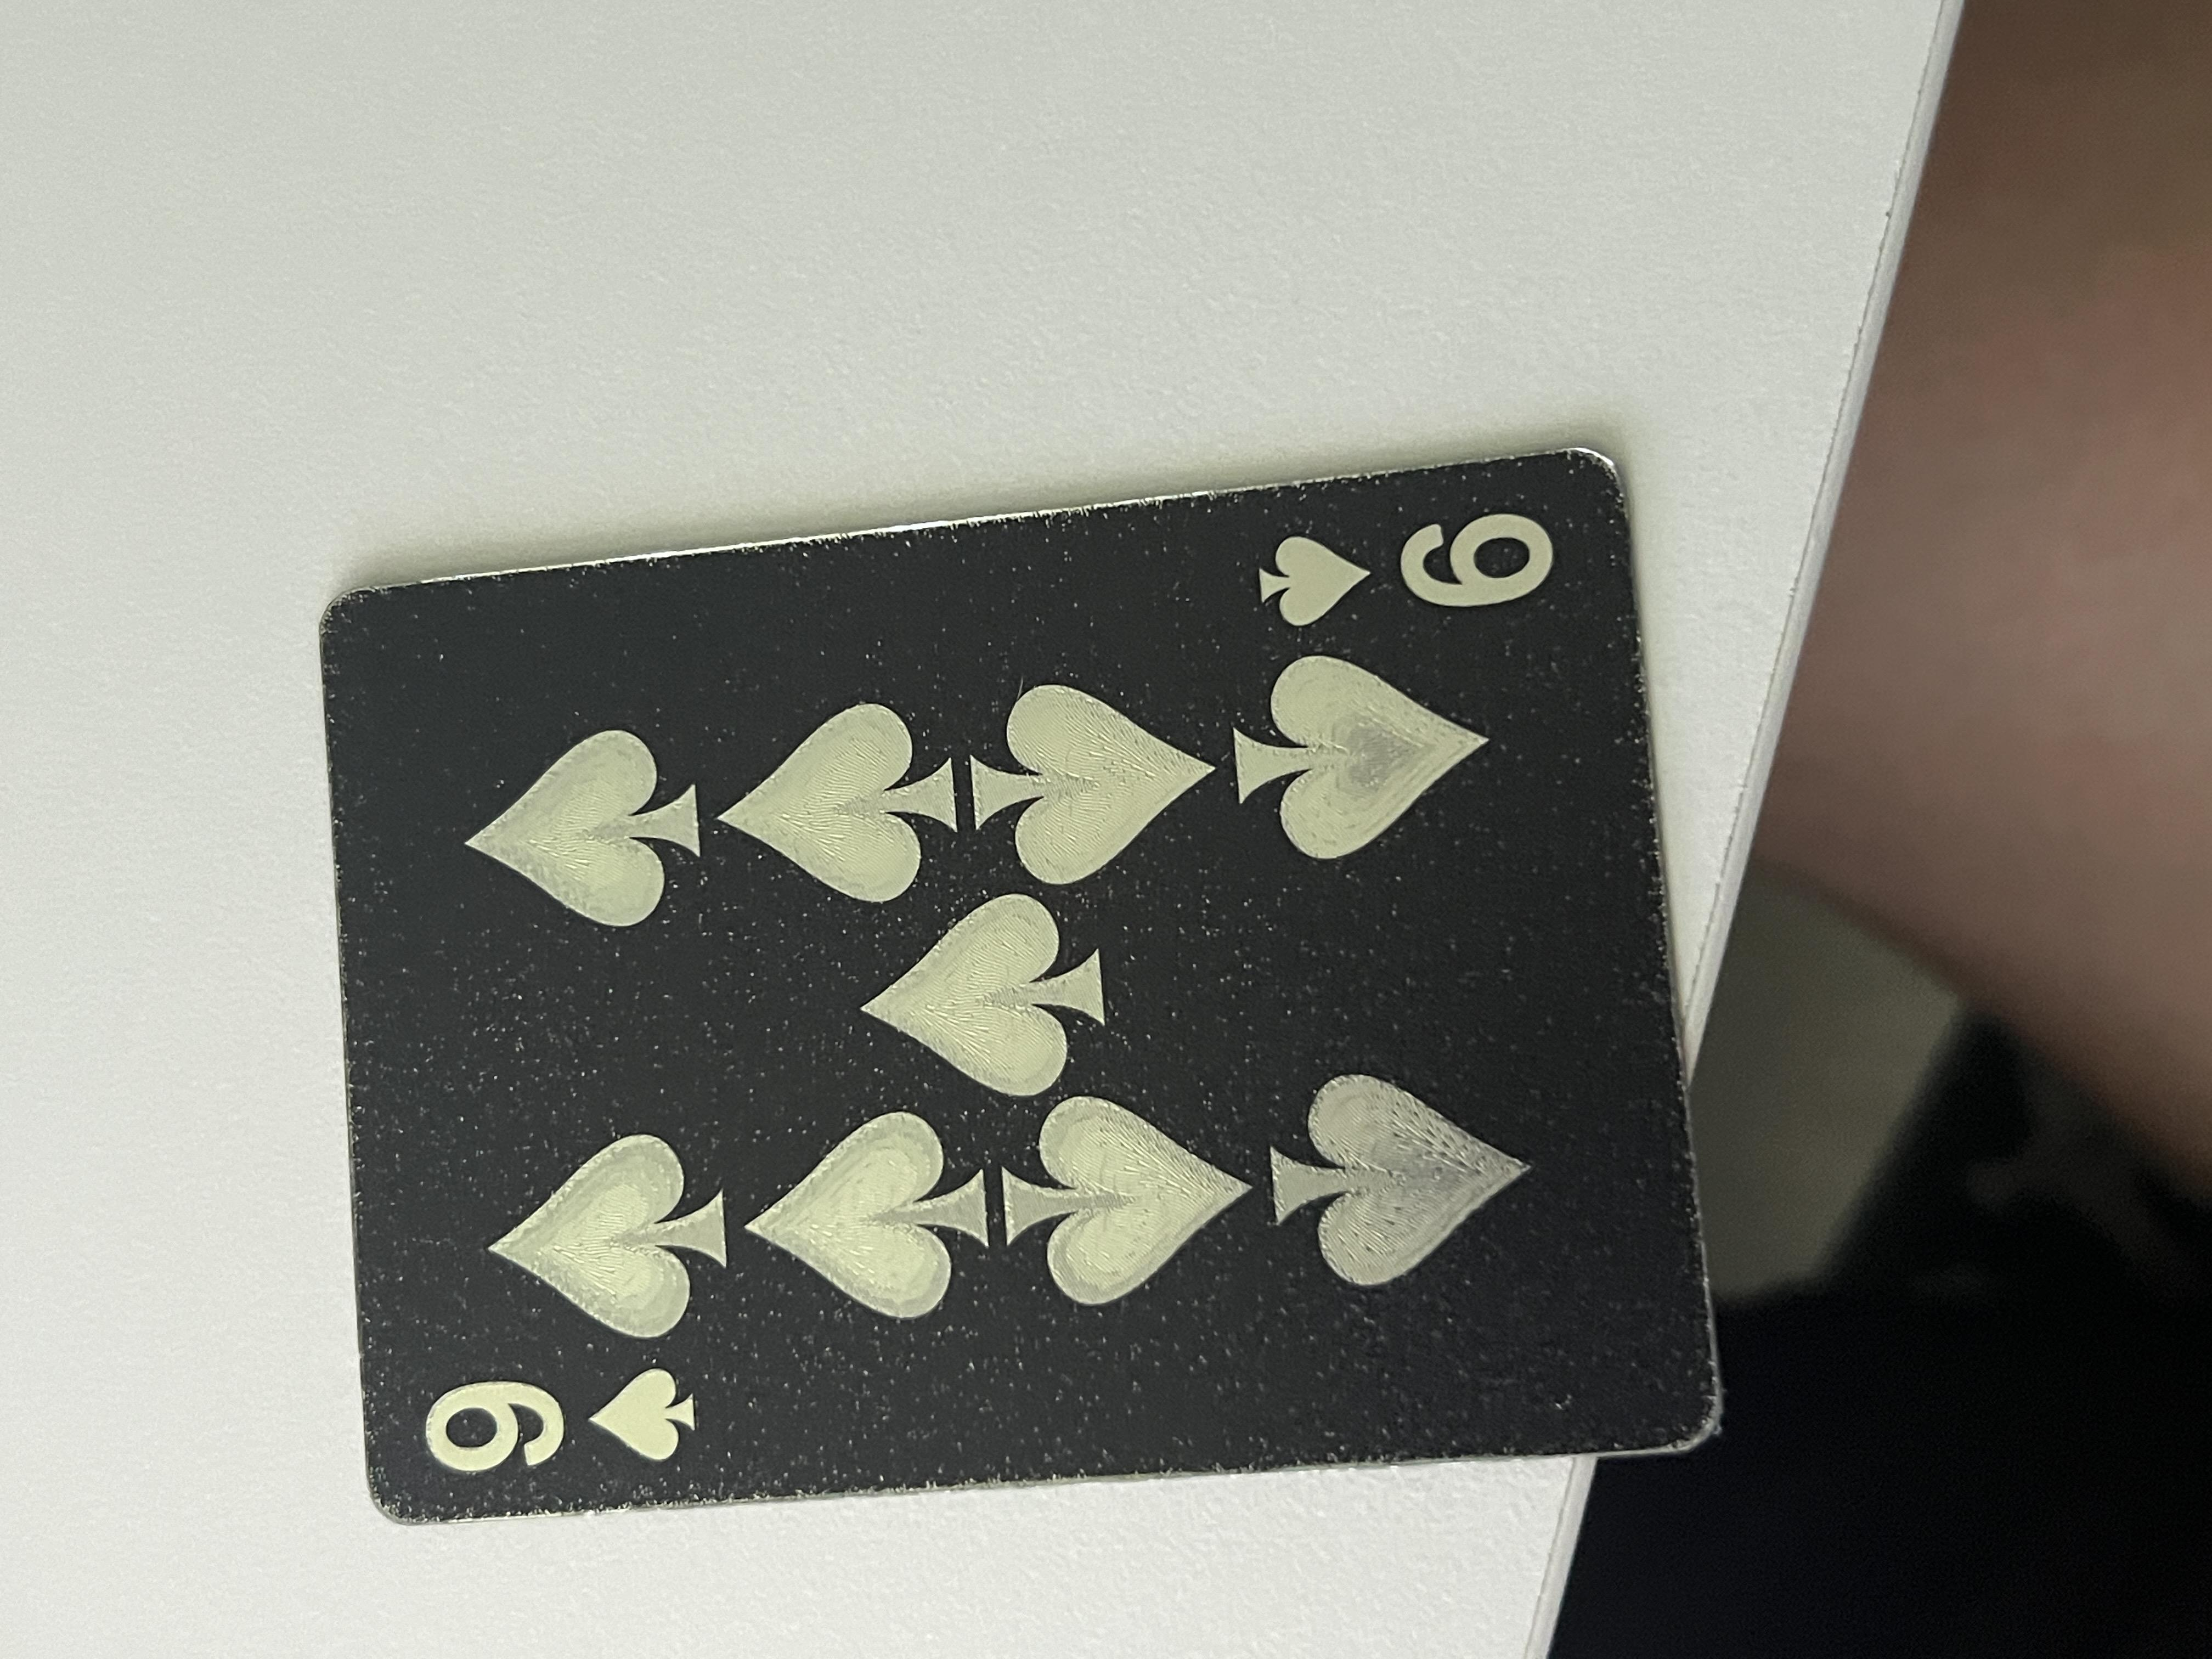9S: (197, 303, 413, 535), (1364, 938, 1550, 1178)
